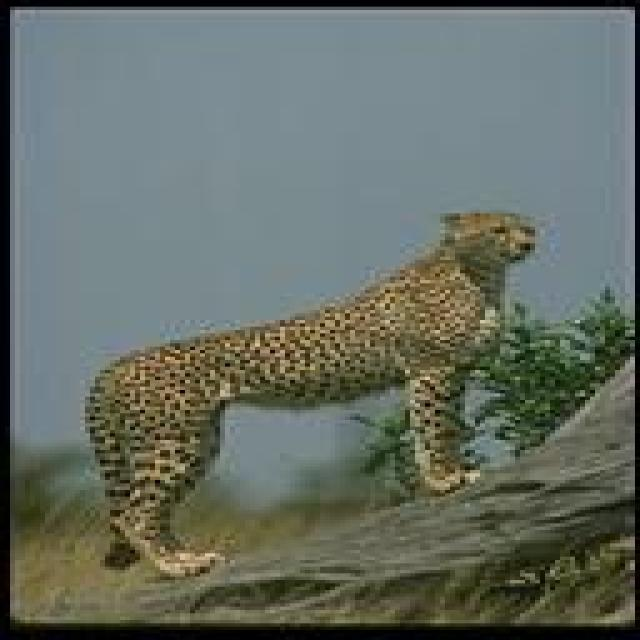Leopard: (97, 207, 544, 572)
